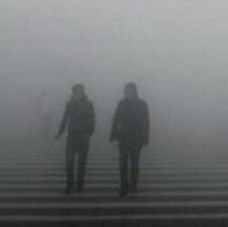person: (110, 83, 150, 196), (55, 84, 95, 194)
